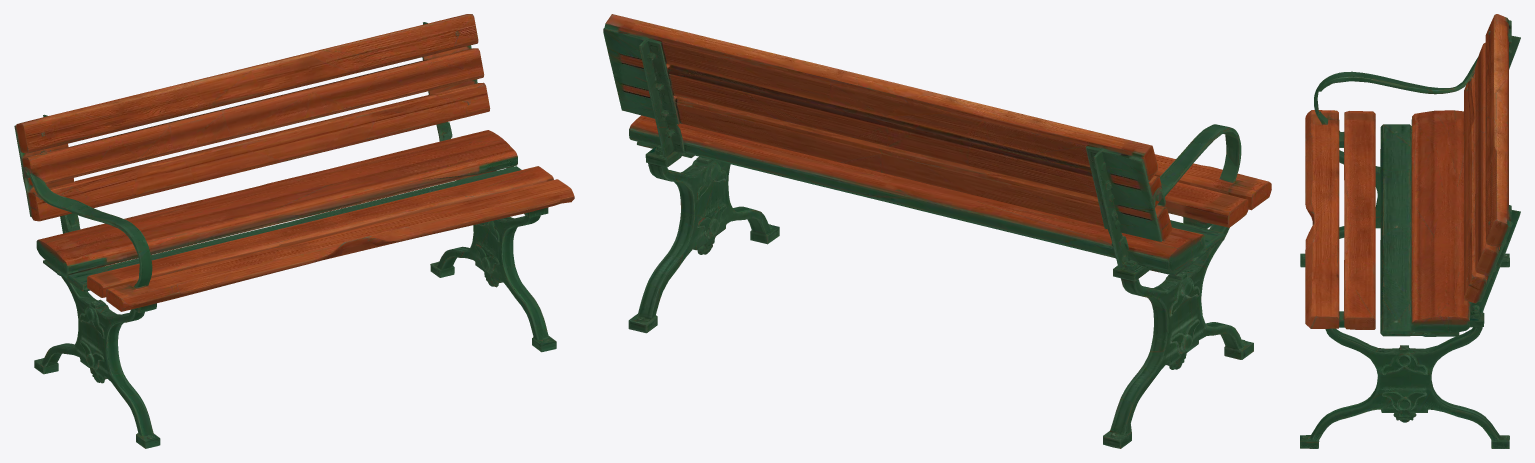
Rendered from bench.glb.
3 renders of one model, left to right at view 1: azimuth 30°, elevation 25°; view 2: azimuth 150°, elevation 25°; view 3: azimuth 270°, elevation 25°, orthographic. The views are drawn at different scales.
Size of the model in its own units: 1.9 by 1.02 by 0.8538.
1 material, 1 textured.
